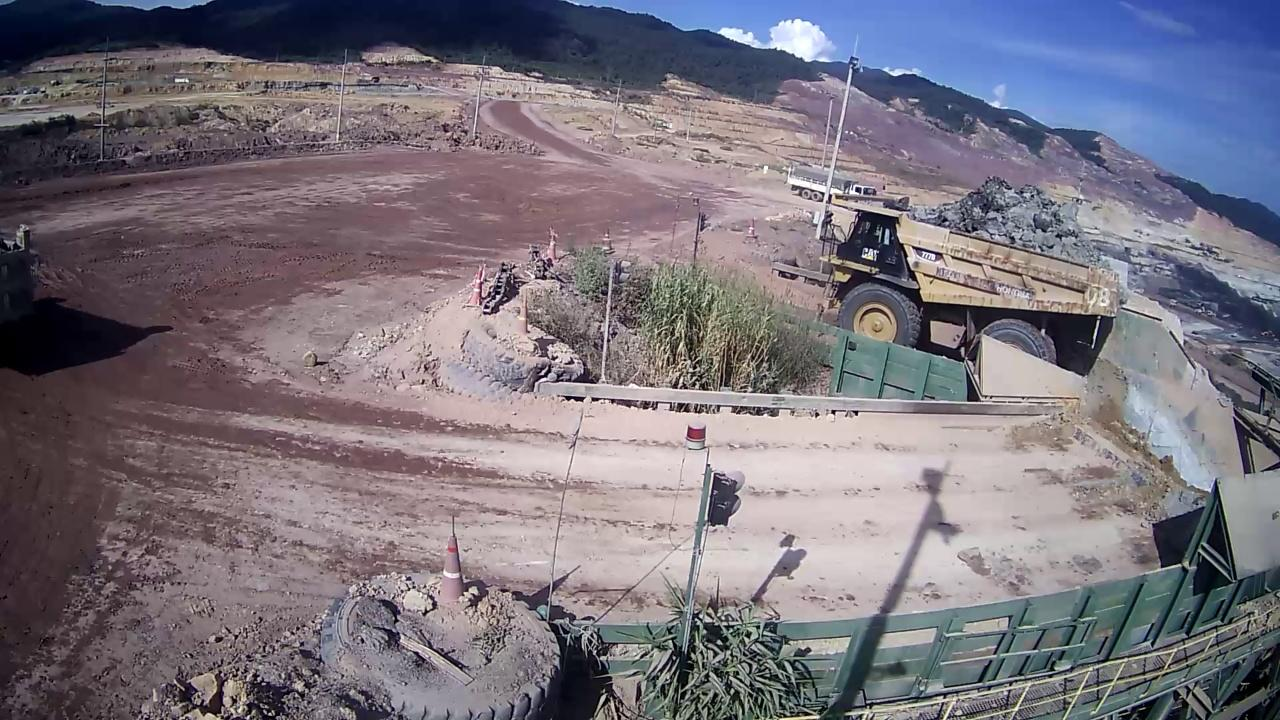company: (931, 261, 1038, 304)
full_load: (931, 171, 1091, 242)
mining_truck: (812, 168, 1123, 378)
tail_number: (1080, 282, 1112, 311)
truck_size: (912, 241, 943, 268)
